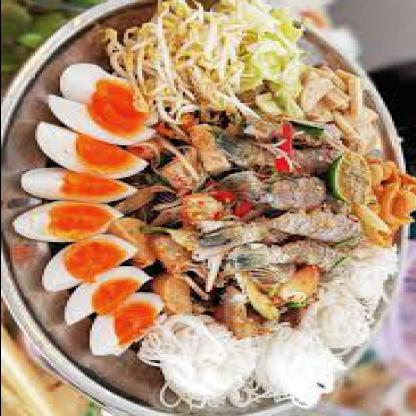Papaya Salad: (9, 20, 400, 384)
